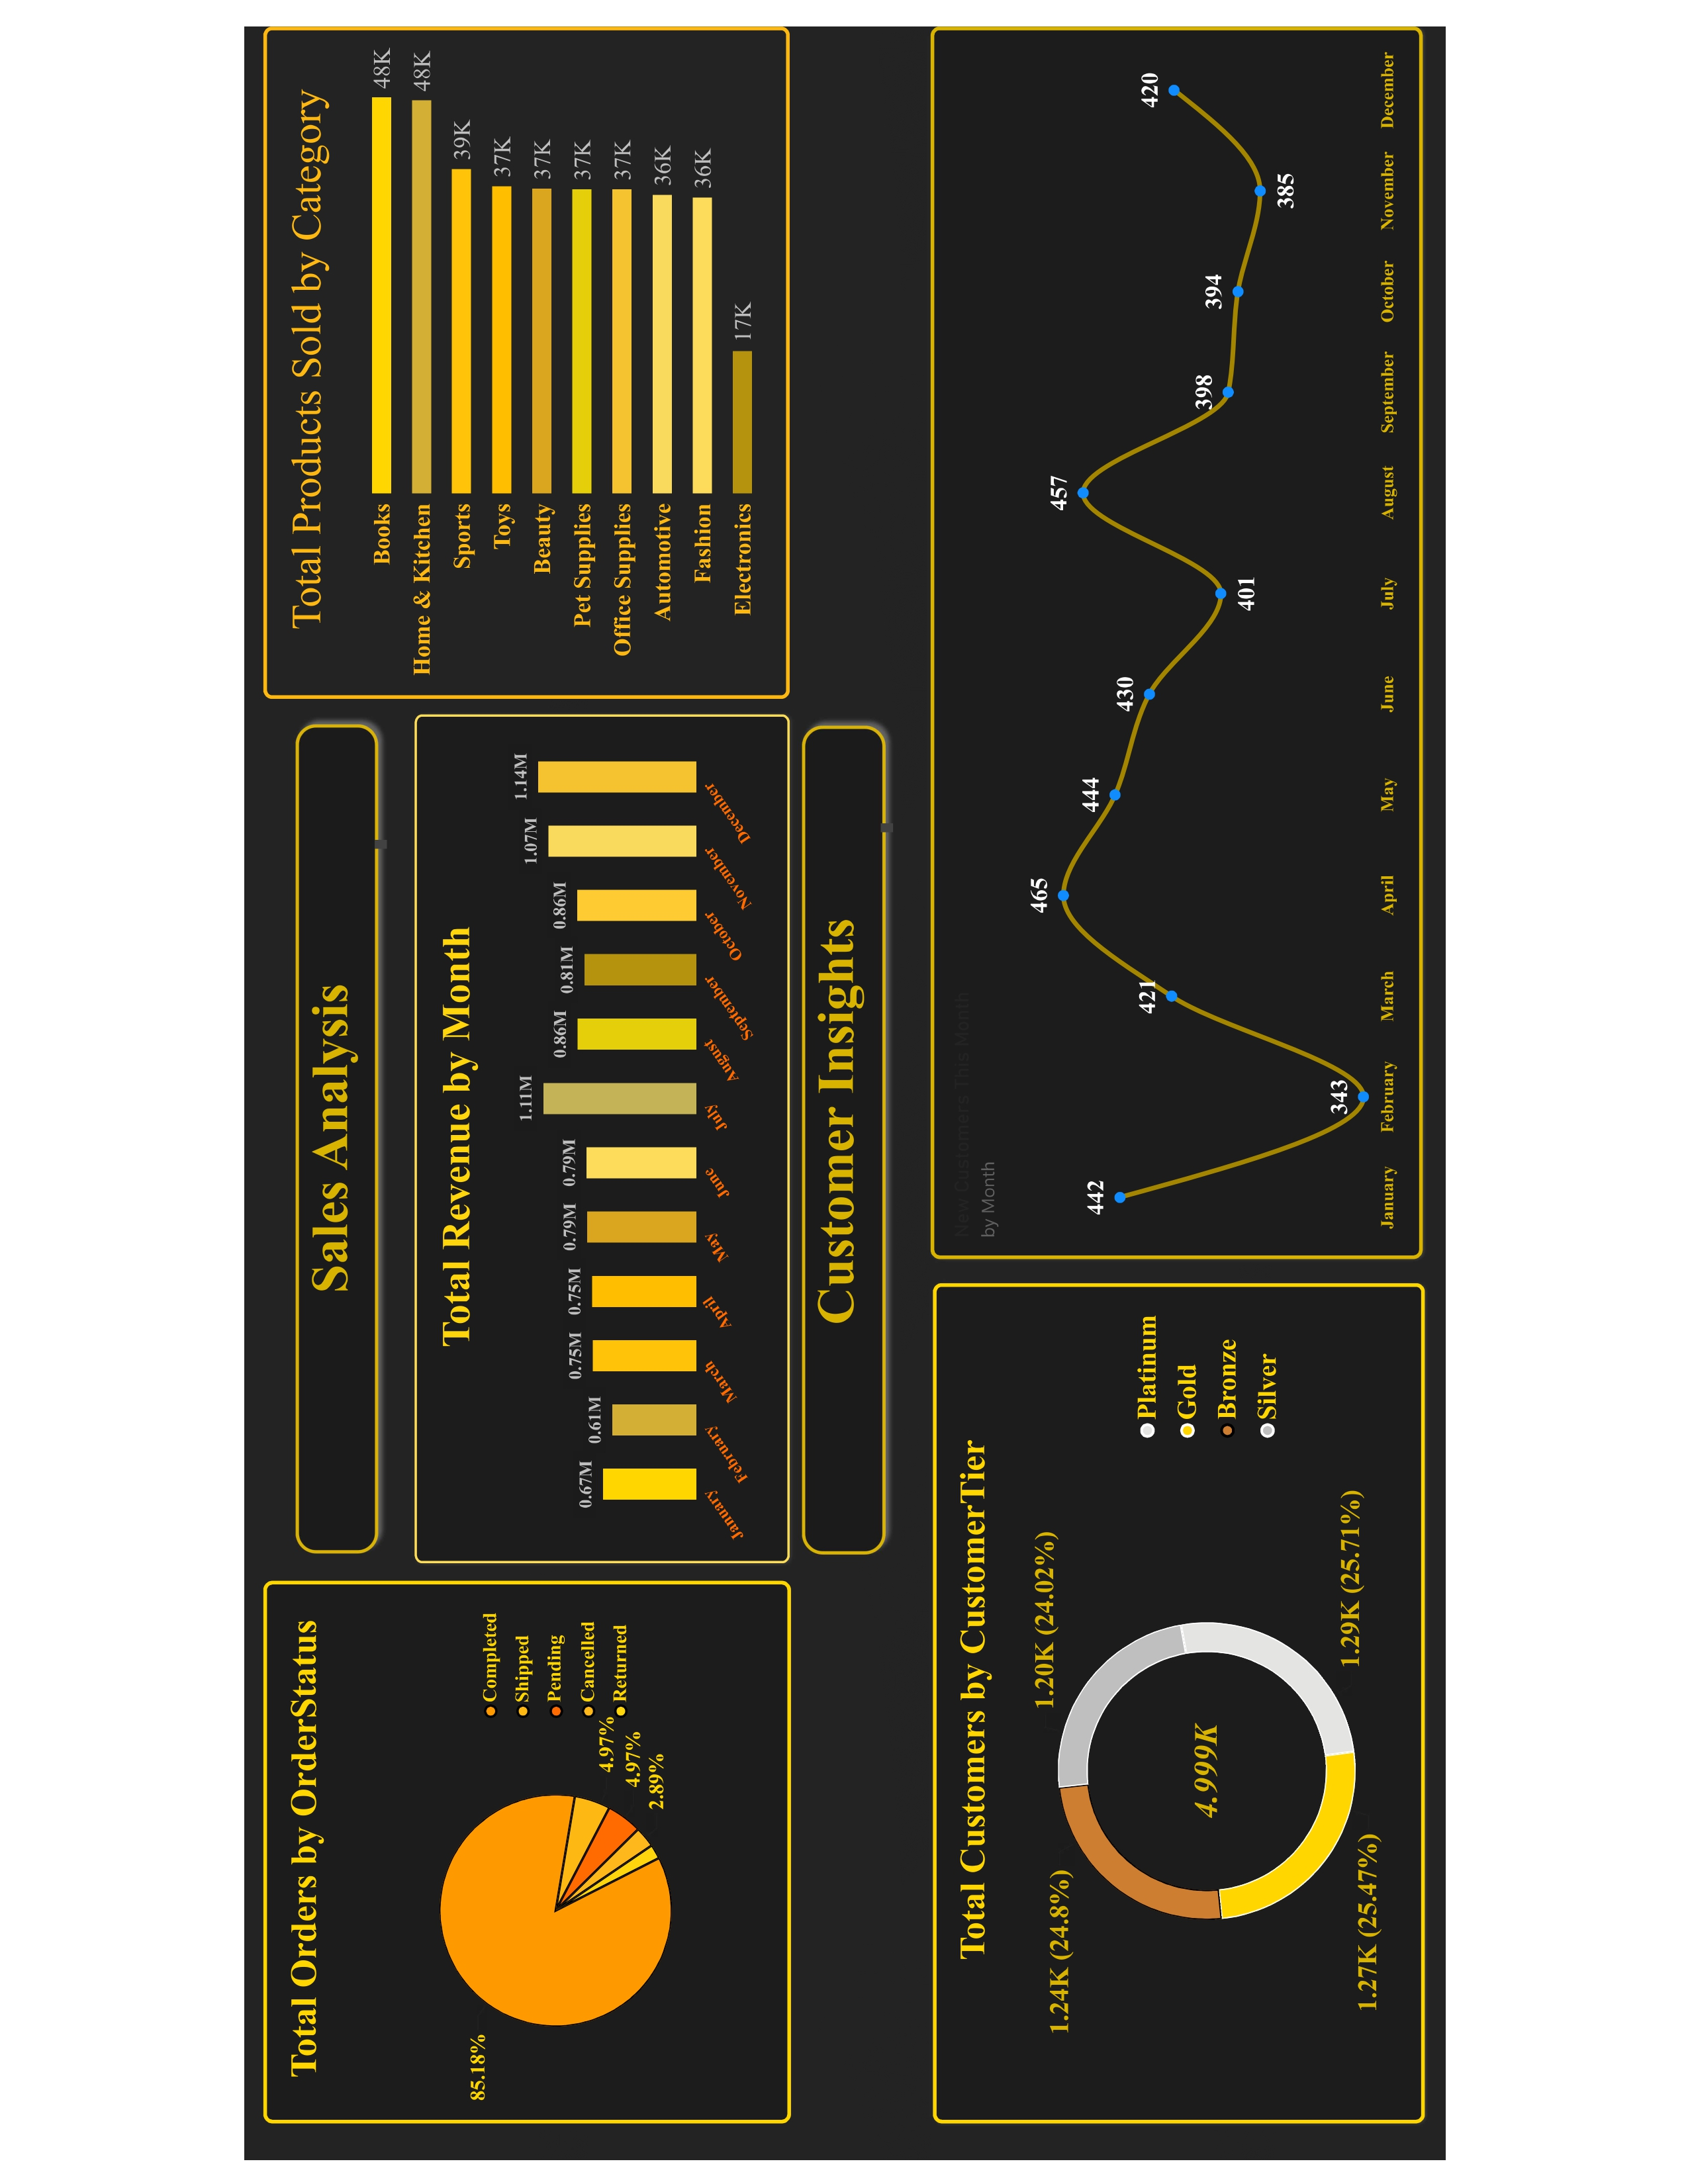

The page's visual inventory and layout, read from the dashboard file:
{"tool":"powerbi","page":{"name":"Sales Analytics and Customer Insights","canvas":[1920,1080],"ordinal":1},"visuals":[{"type":"pieChart","fields":{"Y":["Orders.Total Orders"],"Category":["Orders.OrderStatus"]},"box":[33.1,17.4,487.8,473.4],"z":0},{"type":"lineClusteredColumnComboChart","fields":{"Category":["Orders.OrderDate.Variation.Date Hierarchy.Year","Orders.OrderDate.Variation.Date Hierarchy.Quarter","Orders.OrderDate.Variation.Date Hierarchy.Month","Orders.OrderDate.Variation.Date Hierarchy.Day"],"Y":["Orders.Total Revenue"]},"box":[537.2,153.5,764,336.6],"z":1000},{"type":"clusteredBarChart","fields":{"Category":["Products.Category"],"Y":["Products.Total Products Sold"]},"box":[1315.1,17.4,605.2,472.7],"z":2000},{"type":"lineChart","fields":{"Category":["Customers.JoinDate.Variation.Date Hierarchy.Month"],"Y":["Customers.New Customers This Month"]},"box":[811,617.4,1109.3,441.3],"z":3000},{"type":"shape","box":[537.2,36.6,764,92.4],"z":4000},{"type":"donutChart","fields":{"Y":["Customers.Total Customers"],"Category":["Customers.CustomerTier"]},"box":[33,618.6,756,442.6],"z":5000},{"type":"shape","box":[536.1,492.1,764,92.4],"z":6000},{"type":"textbox","title":"Sales Analysis","box":[650.6,48.8,537.2,79.1],"z":6001},{"type":"textbox","title":"Customer Insights","box":[666.3,504.1,537.2,79.1],"z":6002}]}

Visuals, with their boxes on the page's 1920x1080 design canvas (x1, y1, x2, y2). These are canvas units, not pixel positions in the 1688x2184 screenshot, which may show the page scaled, cropped or inside an application window:
pieChart - Orders.Total Orders x Orders.OrderStatus: box=[33, 17, 521, 491]
lineClusteredColumnComboChart - Orders.OrderDate.Variation.Date Hierarchy.Year x Orders.OrderDate.Variation.Date Hierarchy.Quarter: box=[537, 154, 1301, 490]
clusteredBarChart - Products.Category x Products.Total Products Sold: box=[1315, 17, 1920, 490]
lineChart - Customers.JoinDate.Variation.Date Hierarchy.Month x Customers.New Customers This Month: box=[811, 617, 1920, 1059]
shape: box=[537, 37, 1301, 129]
donutChart - Customers.Total Customers x Customers.CustomerTier: box=[33, 619, 789, 1061]
shape: box=[536, 492, 1300, 584]
"Sales Analysis" textbox: box=[651, 49, 1188, 128]
"Customer Insights" textbox: box=[666, 504, 1204, 583]
